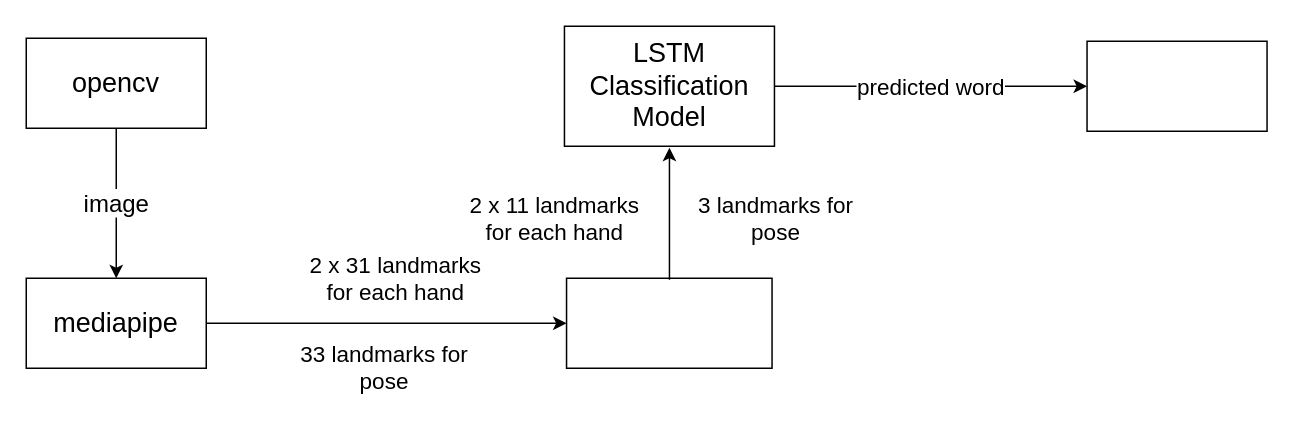
Image size: 1295x446. Some labels were removed from this diagram. The centre of each missing label's shape, as x and y in pixels:
"Data Preprocessing" belongs at (668,322).
"UI" belongs at (1176,85).
